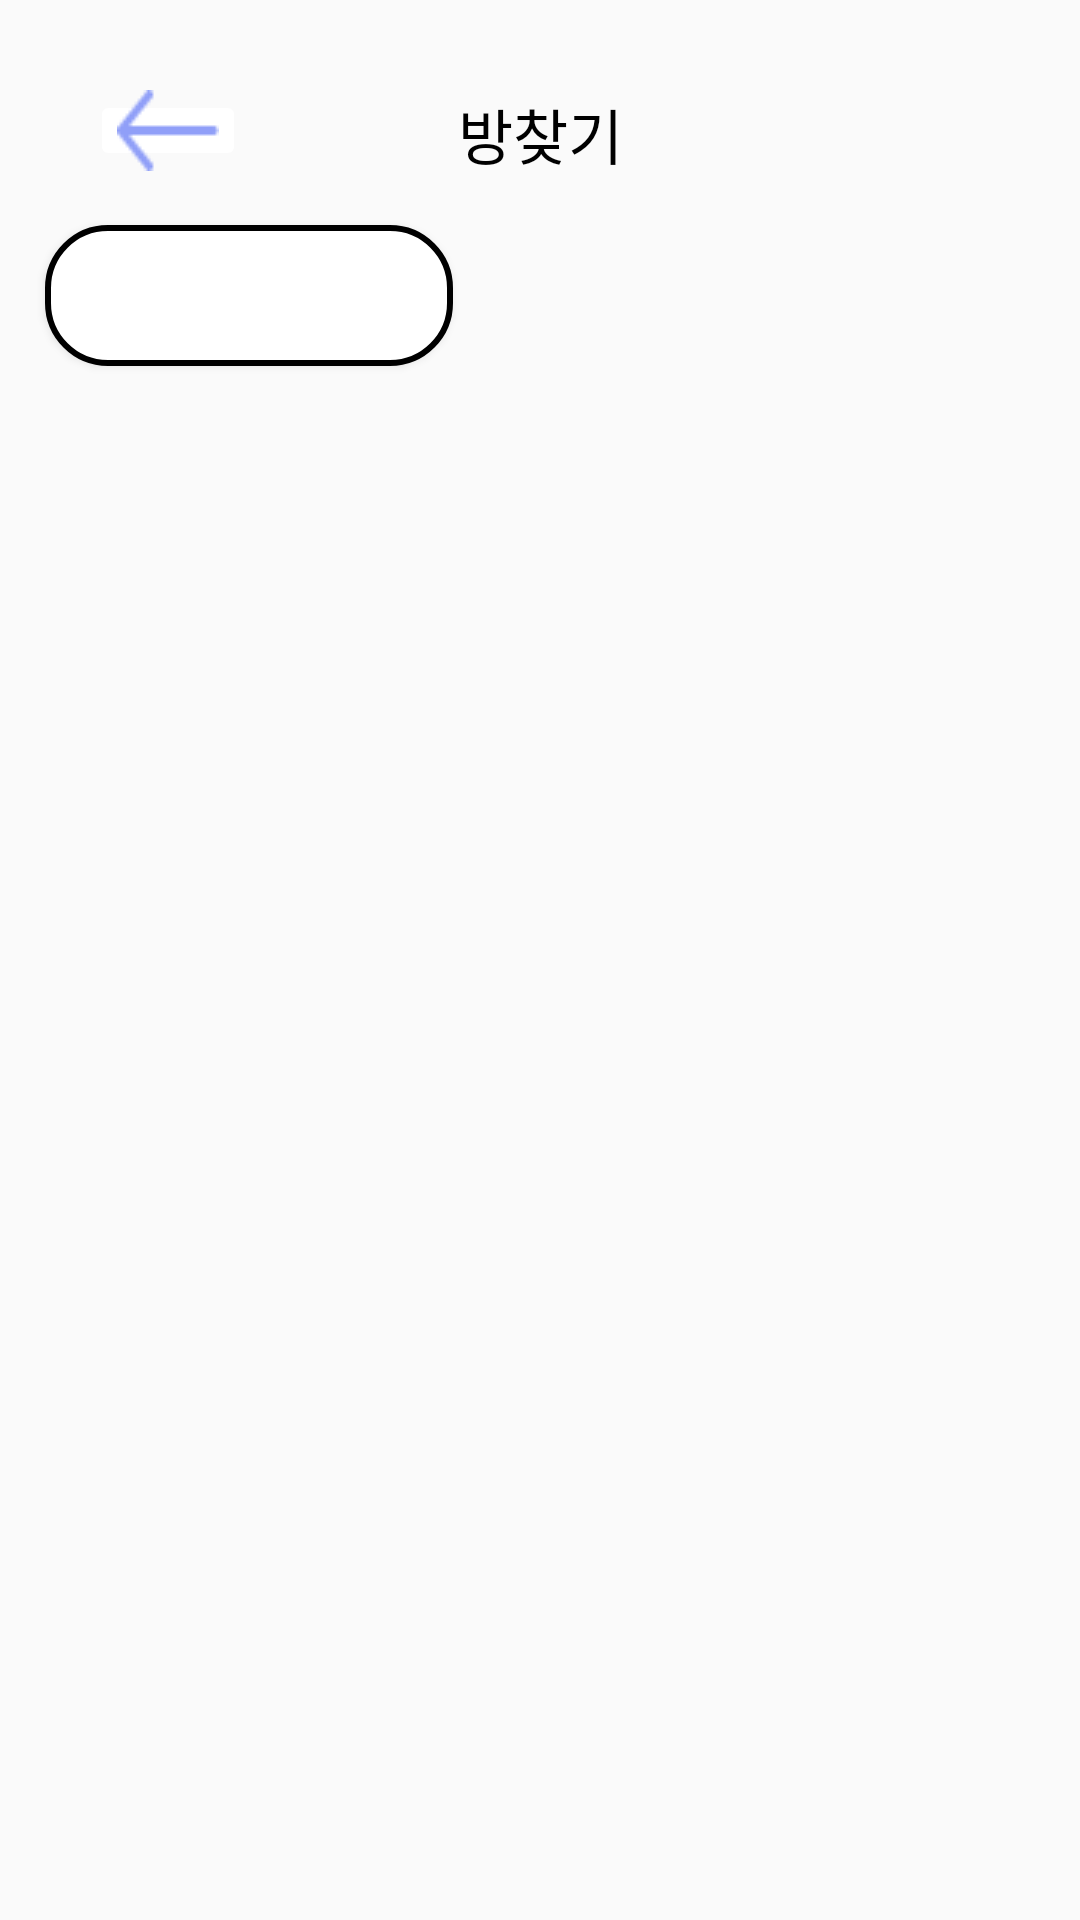

Screen size 1080x1920. Icon name, then its center in pixels as [x,y]:
arrow left: [168,130]
